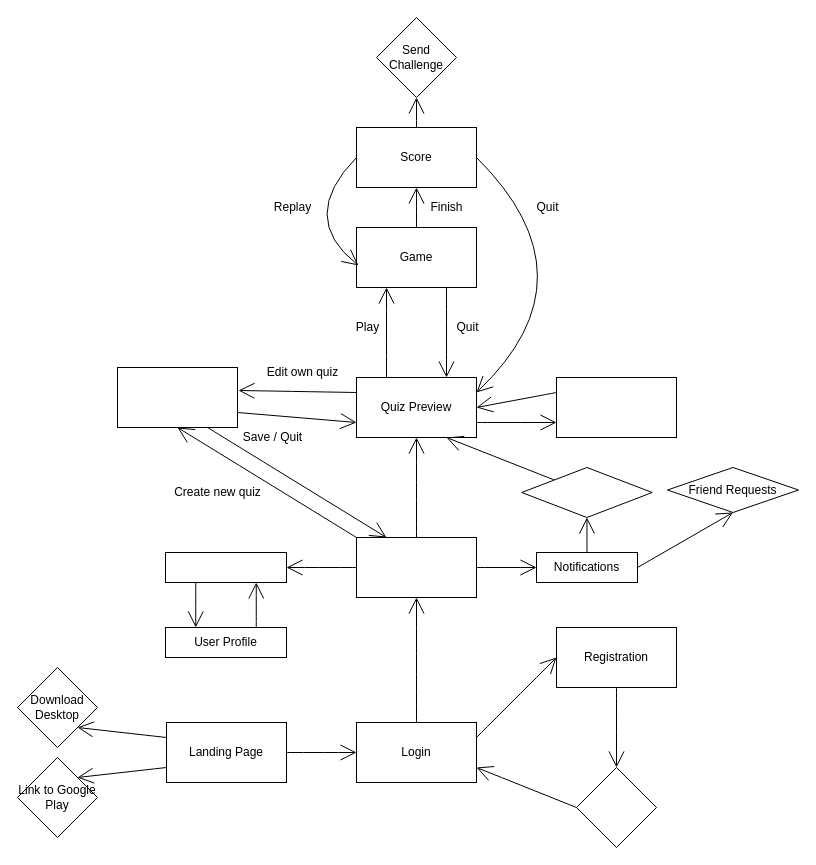
This 816x865 diagram has some shape labels left out. Here are the shapes that lost their labels. From the top down, the box of each, then its label:
(116, 366, 238, 428): Editor
(556, 376, 676, 438): Creator Profile View
(521, 466, 652, 518): Accept Challenge
(164, 552, 286, 582): Options
(356, 536, 476, 598): List / Search / Kategories
(576, 766, 656, 848): Validation
